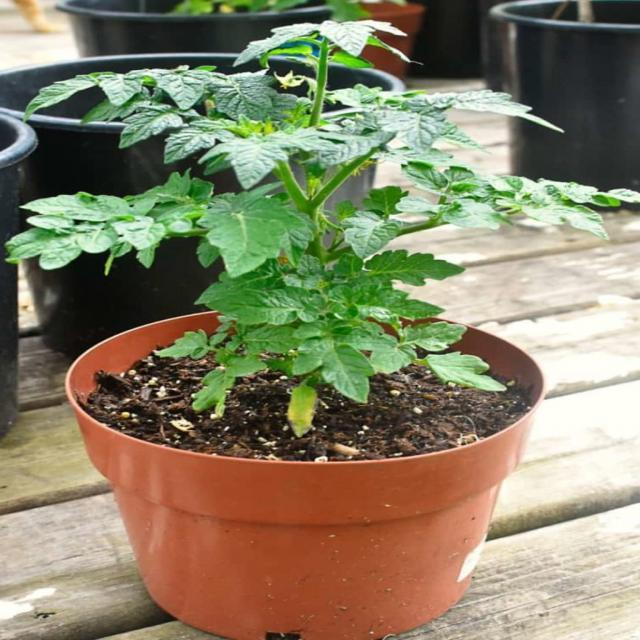tomato: (7, 20, 640, 436)
